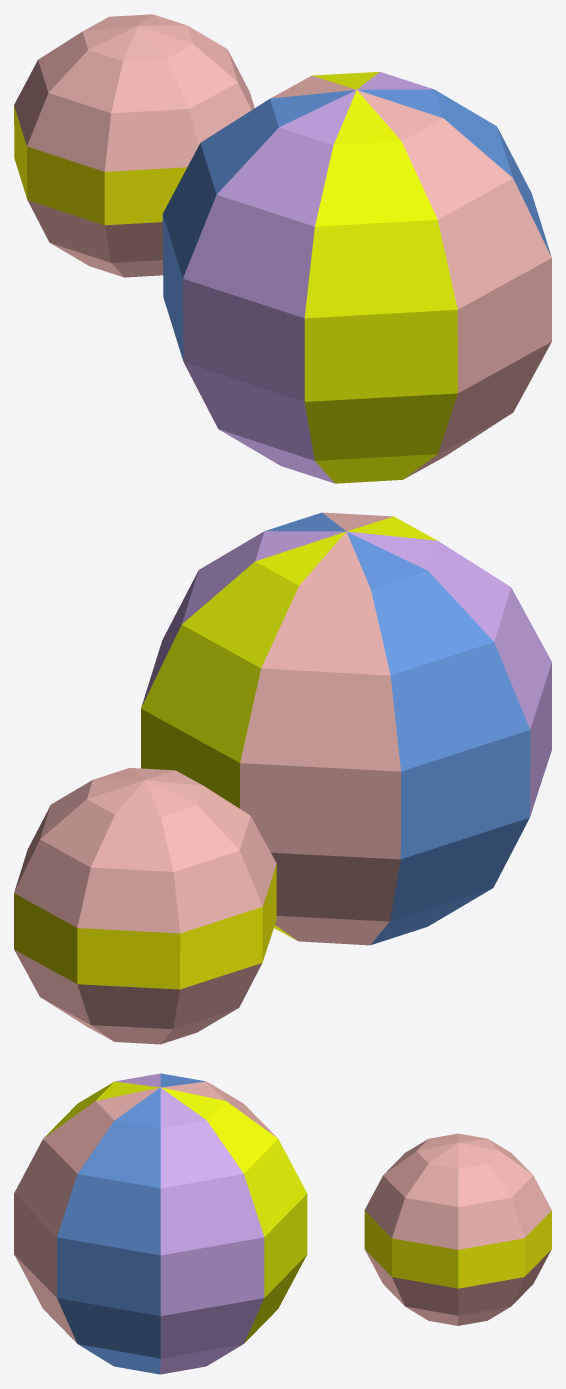
3 renders of one model, top to bottom at view 1: azimuth 30°, elevation 25°; view 2: azimuth 150°, elevation 25°; view 3: azimuth 270°, elevation 25°, orthographic. The views are drawn at different scales.
Visible parts, largest first — view 1: Object_6, Object_4, Object_2, Object_3, Object_5; view 2: Object_6, Object_3, Object_4, Object_2, Object_5; view 3: Object_6, Object_2, Object_3, Object_4, Object_5.
Part boxes in pixels (<box>): Object_6: <box>14,14,551,479</box>; Object_4: <box>304,71,457,483</box>; Object_2: <box>183,72,433,483</box>; Object_3: <box>162,89,551,361</box>; Object_5: <box>14,106,186,225</box>; Object_6: <box>14,512,400,1044</box>; Object_3: <box>265,512,530,945</box>; Object_4: <box>141,516,437,940</box>; Object_2: <box>141,531,551,816</box>; Object_5: <box>14,864,276,989</box>; Object_6: <box>14,1081,551,1342</box>; Object_2: <box>115,1073,264,1374</box>; Object_3: <box>57,1073,206,1374</box>; Object_4: <box>43,1081,307,1343</box>; Object_5: <box>364,1210,551,1288</box>.
Size of the model in its own units: 1.95 by 2 by 3.58.
